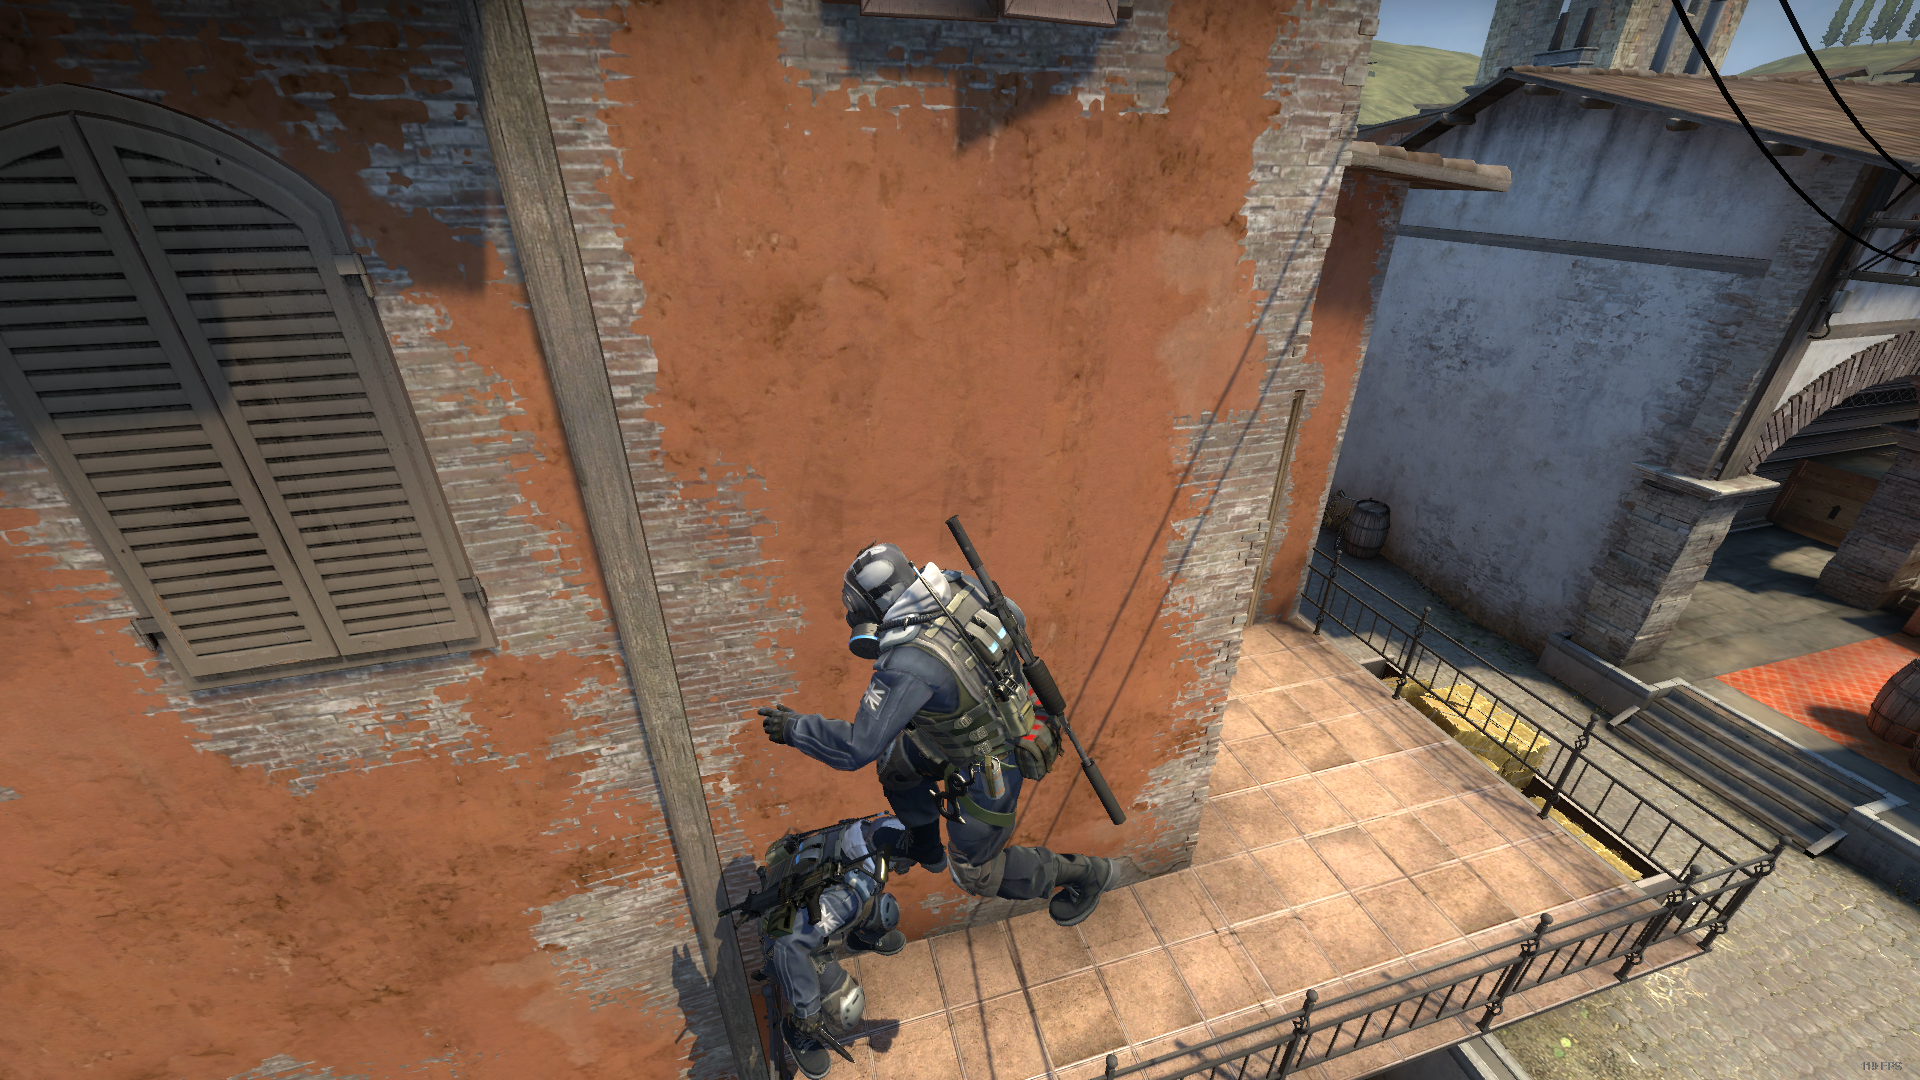ct: (753, 520, 1134, 926), (724, 808, 928, 1076)
